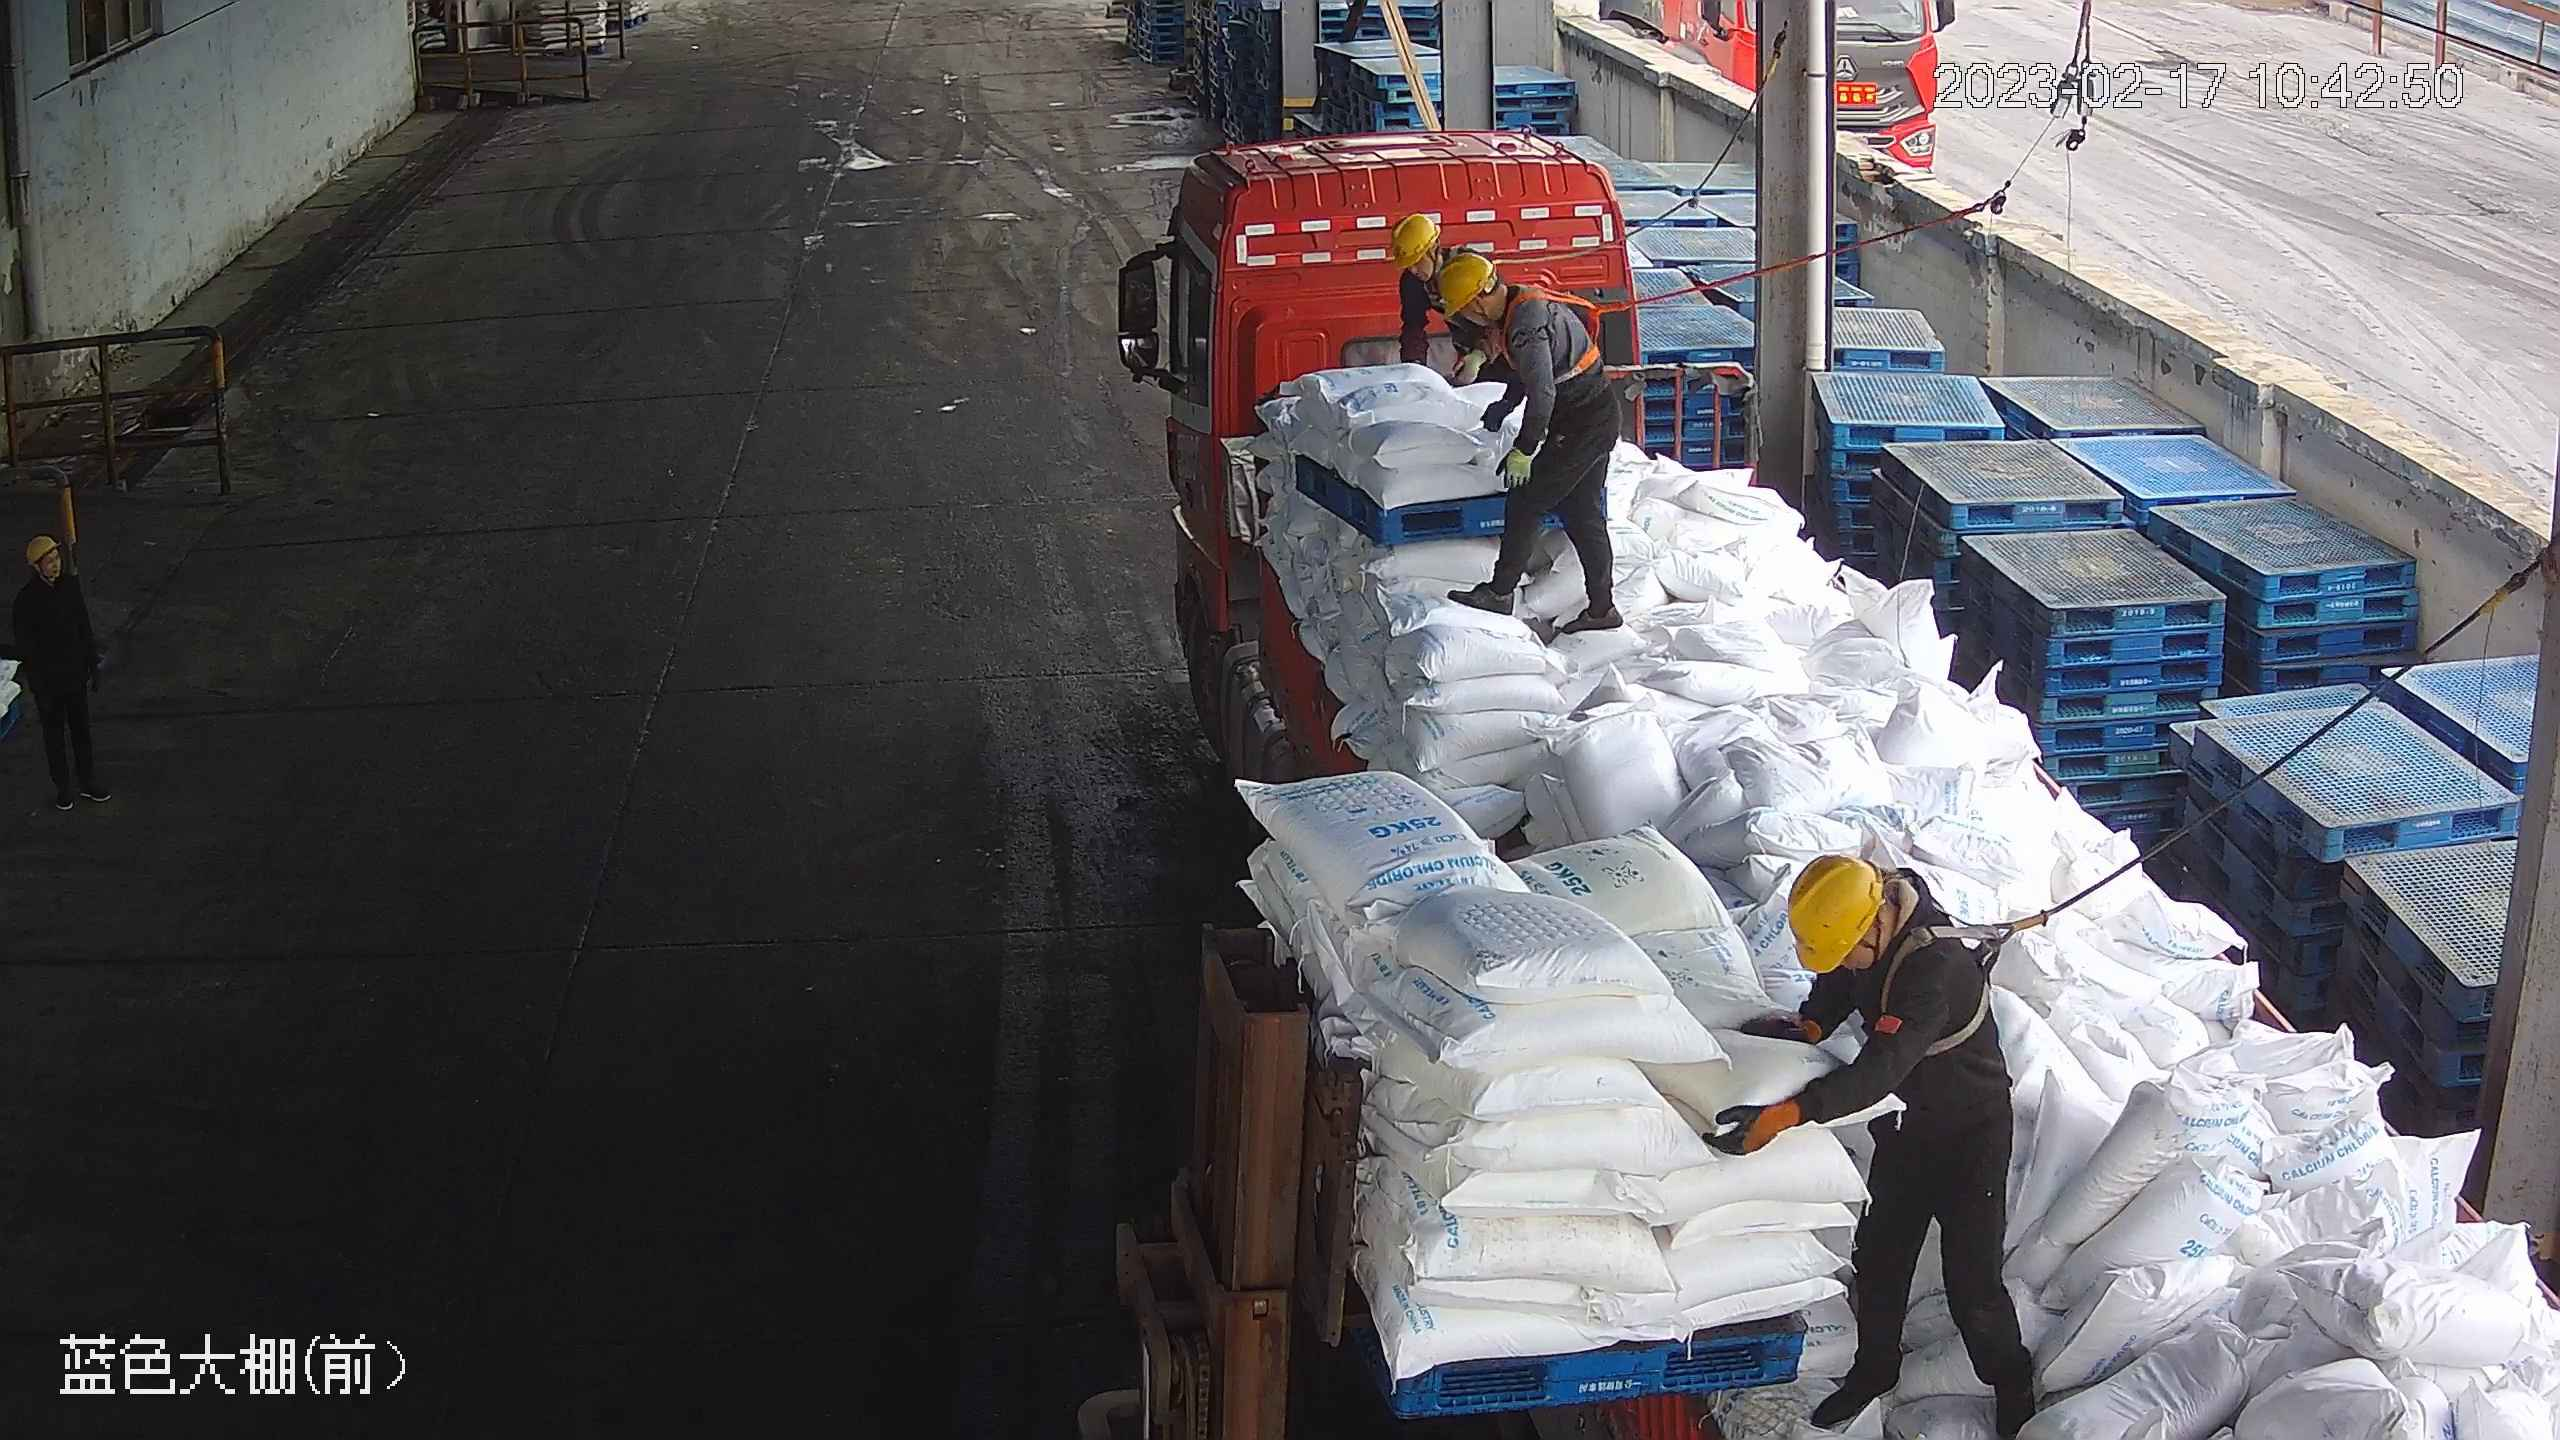belt: (1869, 900, 2030, 1055), (1503, 281, 1608, 380)
head: (1782, 852, 1976, 1022), (1434, 247, 1558, 357), (9, 533, 90, 618)
helmet: (1783, 852, 1883, 972), (1437, 247, 1497, 314), (1387, 211, 1440, 268), (23, 534, 61, 566)
people: (1708, 848, 2044, 1434), (1433, 248, 1628, 639), (6, 531, 117, 813)
truck: (1126, 133, 2540, 1435)
